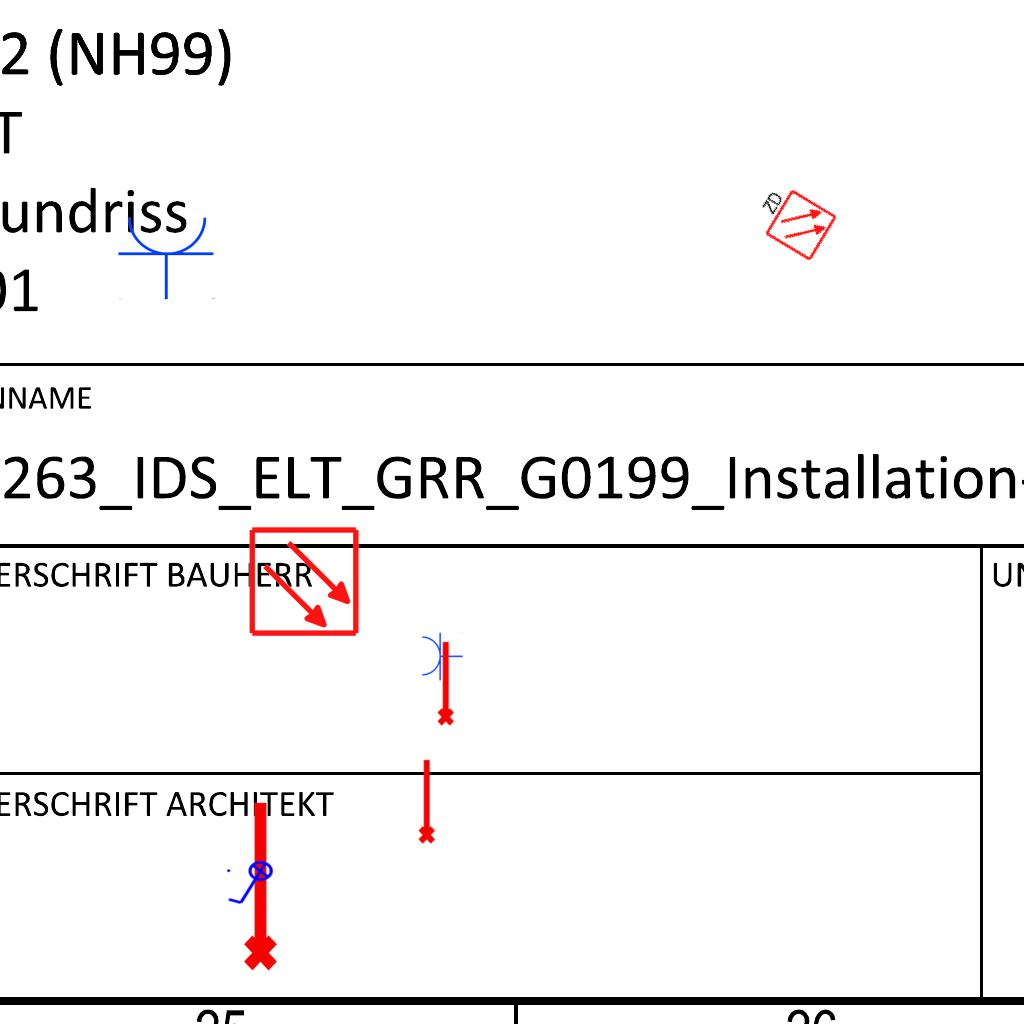ASR_Ansaugoeffnung: (235, 797, 281, 973), (414, 757, 437, 845), (433, 639, 456, 727)
Ausschalter_beleuchtet: (224, 860, 280, 908)
RMO_Rauchmelder_optischer: (248, 525, 361, 638)
Schukosteckdose_einfach: (117, 213, 217, 300), (420, 631, 463, 681)
ZD_Melder_in_Zwischendecke_mit_Revisionsoeffnung_mind_40_x_40_cm: (746, 177, 839, 265)
